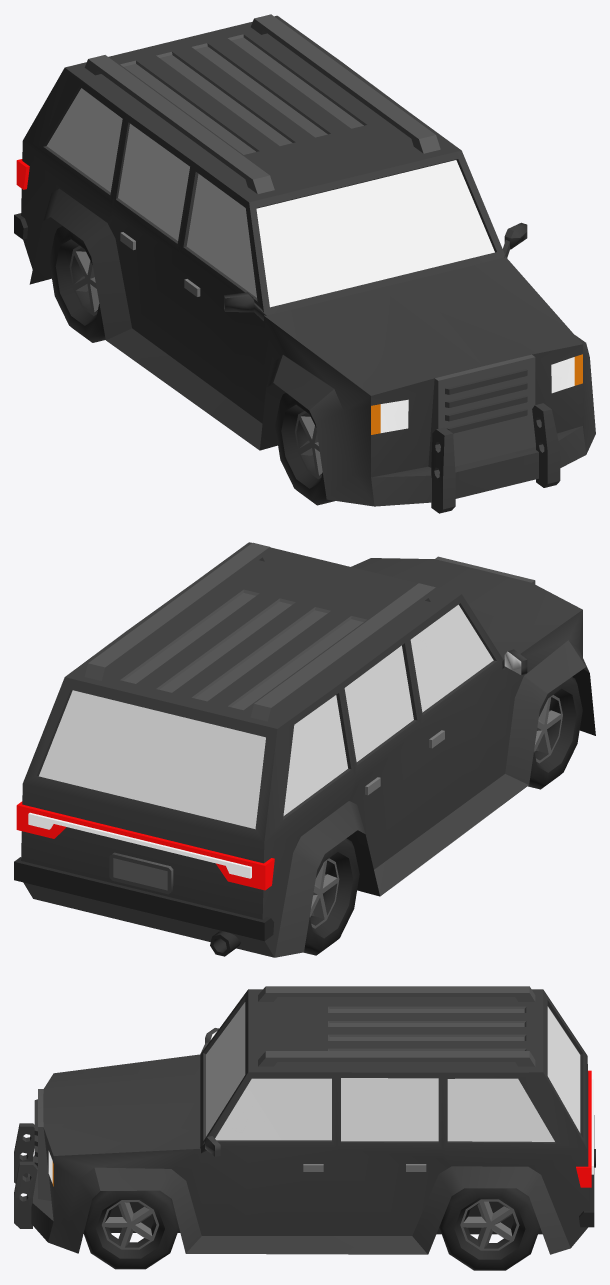
File: armor.glb
3 views of the same model, one above another, from view 1: azimuth 30°, elevation 25°; view 2: azimuth 150°, elevation 25°; view 3: azimuth 270°, elevation 25° (orthographic). The views are drawn at different scales.
Visible parts, largest first — view 1: van, wheels.011, wheels.010; view 2: van, wheels.011, wheels.010; view 3: van, wheels.049, wheels.048.
Boxes of the visible parts, <box> form: van: <box>14,14,595,513</box>; wheels.011: <box>49,226,105,342</box>; wheels.010: <box>275,393,334,505</box>; van: <box>14,542,595,957</box>; wheels.011: <box>303,838,359,955</box>; wheels.010: <box>528,677,582,789</box>; van: <box>14,986,595,1254</box>; wheels.049: <box>439,1188,540,1270</box>; wheels.048: <box>83,1190,179,1269</box>.
Size of the model in its own units: 2.47 by 1.97 by 5.15.
Materials: 3 (2 with a texture image).
